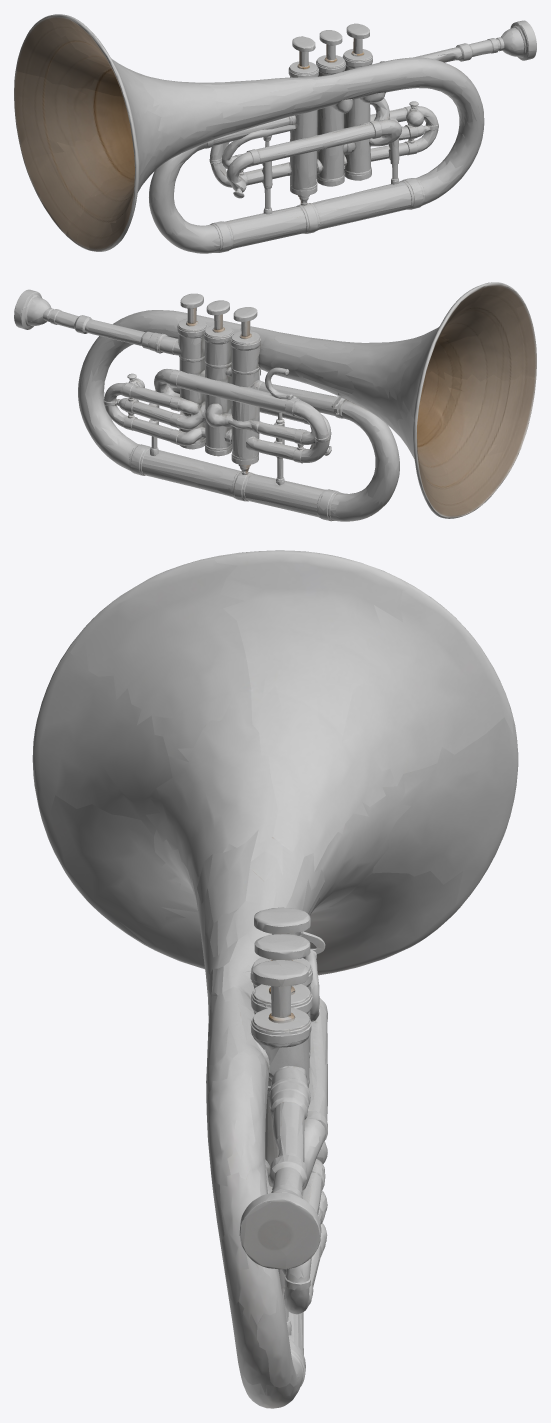
The model's file is silver-baritone.glb.
3 views of the same model, one above another, from view 1: azimuth 30°, elevation 25°; view 2: azimuth 150°, elevation 25°; view 3: azimuth 270°, elevation 25° (orthographic). The views are drawn at different scales.
Parts seen in each view (by area): view 1: output_unwrapped; view 2: output_unwrapped; view 3: output_unwrapped.
Boxes of the visible parts, left/top/right/bottom form: output_unwrapped: left=14, top=14, right=536, bottom=253; output_unwrapped: left=14, top=282, right=536, bottom=521; output_unwrapped: left=32, top=550, right=518, bottom=1408.
Size of the model in its own units: 1.9 by 1.05 by 0.8813.
1 material, 1 textured.
